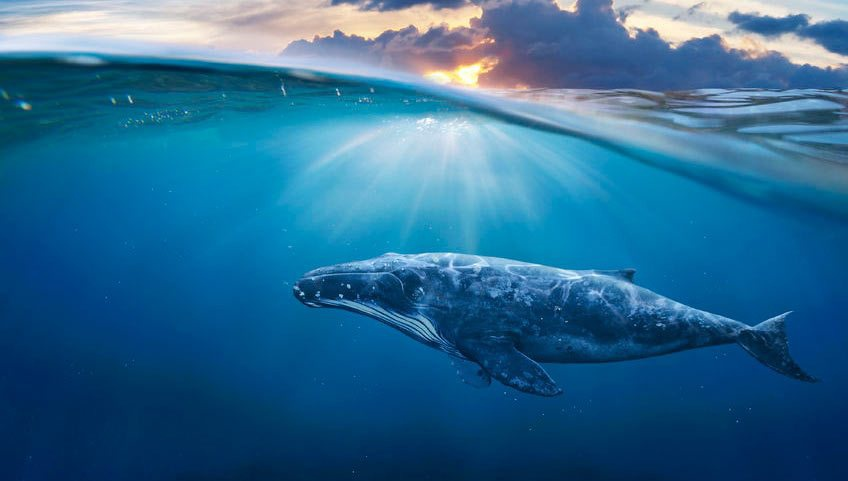humpback: (290, 252, 813, 399)
